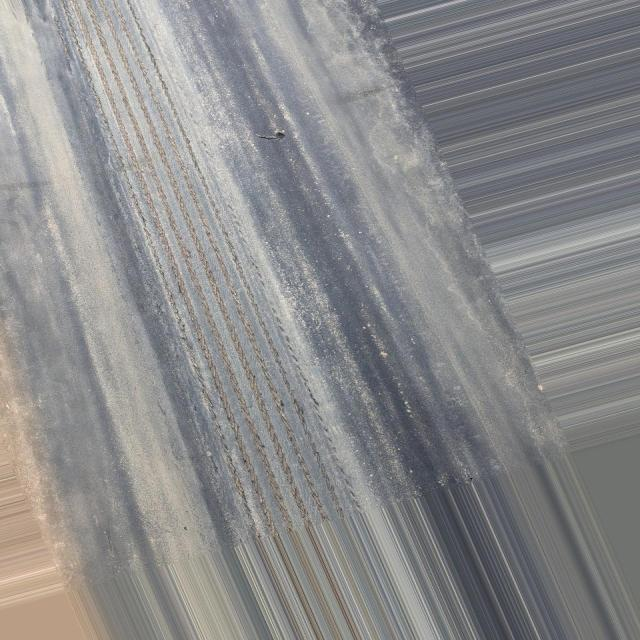Tear: (252, 125, 292, 146)
Wear: (31, 0, 408, 640)
